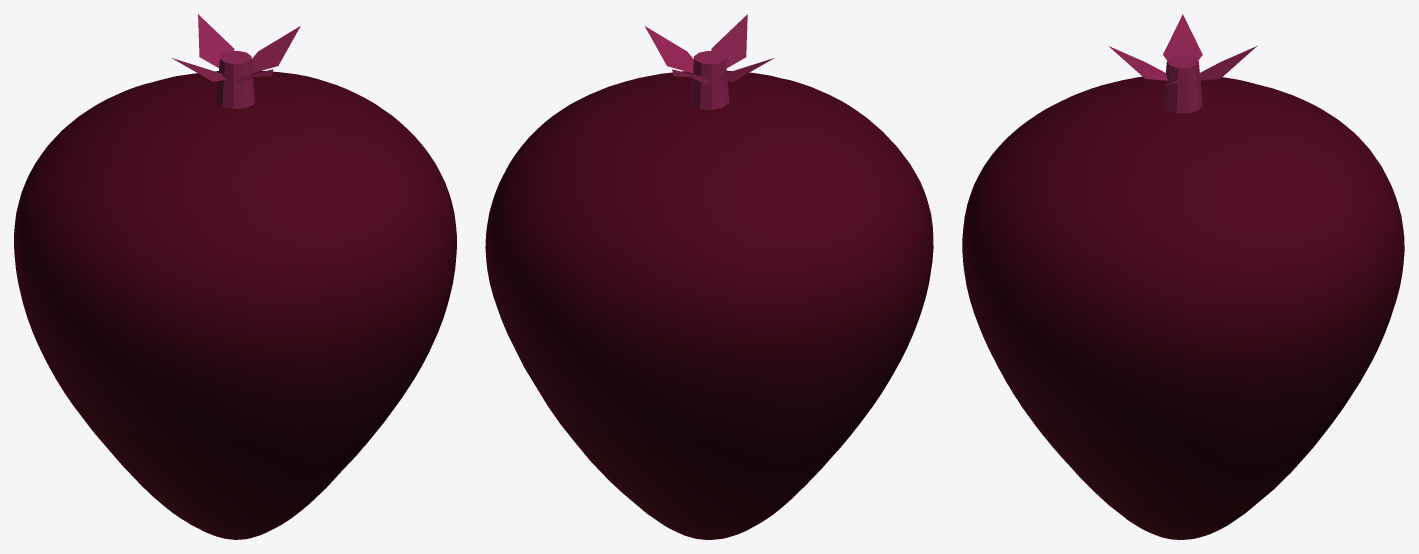
The model's file is betterave.glb.
The picture shows the model from 3 angles, left to right: view 1: azimuth 30°, elevation 25°; view 2: azimuth 150°, elevation 25°; view 3: azimuth 270°, elevation 25°; orthographic projection.
Parts seen in each view (by area): view 1: moitie_B_peau, entier_peau, moitie_A_peau, entier_extra0; view 2: moitie_A_peau, entier_peau, moitie_B_peau, entier_extra0; view 3: entier_peau, moitie_A_peau, moitie_B_peau, entier_extra0.
Boxes of the visible parts, left/top/right/bottom form: moitie_B_peau: left=42, top=92, right=456, bottom=539; entier_peau: left=15, top=71, right=456, bottom=539; moitie_A_peau: left=14, top=70, right=372, bottom=497; entier_extra0: left=172, top=14, right=300, bottom=109; moitie_A_peau: left=485, top=92, right=903, bottom=539; entier_peau: left=486, top=70, right=933, bottom=539; moitie_B_peau: left=564, top=71, right=933, bottom=504; entier_extra0: left=645, top=14, right=774, bottom=109; entier_peau: left=962, top=77, right=1403, bottom=539; moitie_A_peau: left=1183, top=78, right=1404, bottom=539; moitie_B_peau: left=962, top=76, right=1182, bottom=539; entier_extra0: left=1108, top=14, right=1256, bottom=113.
Size of the model in its own units: 1.78 by 2.16 by 1.77.
